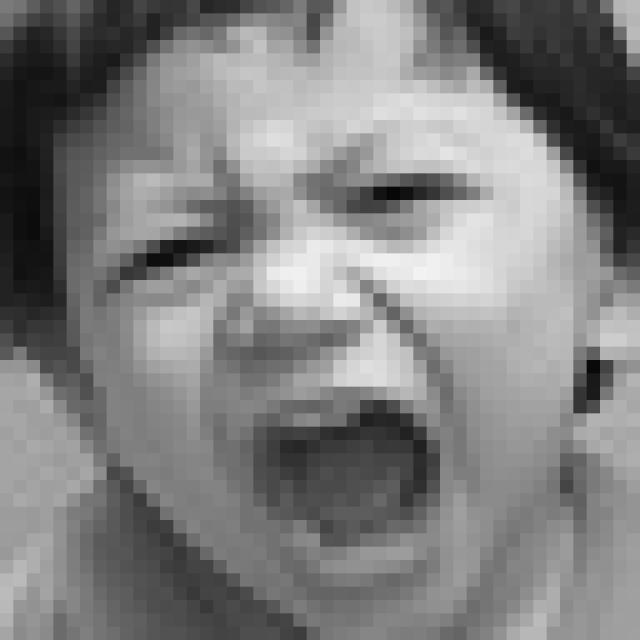angry: (71, 112, 519, 605)
